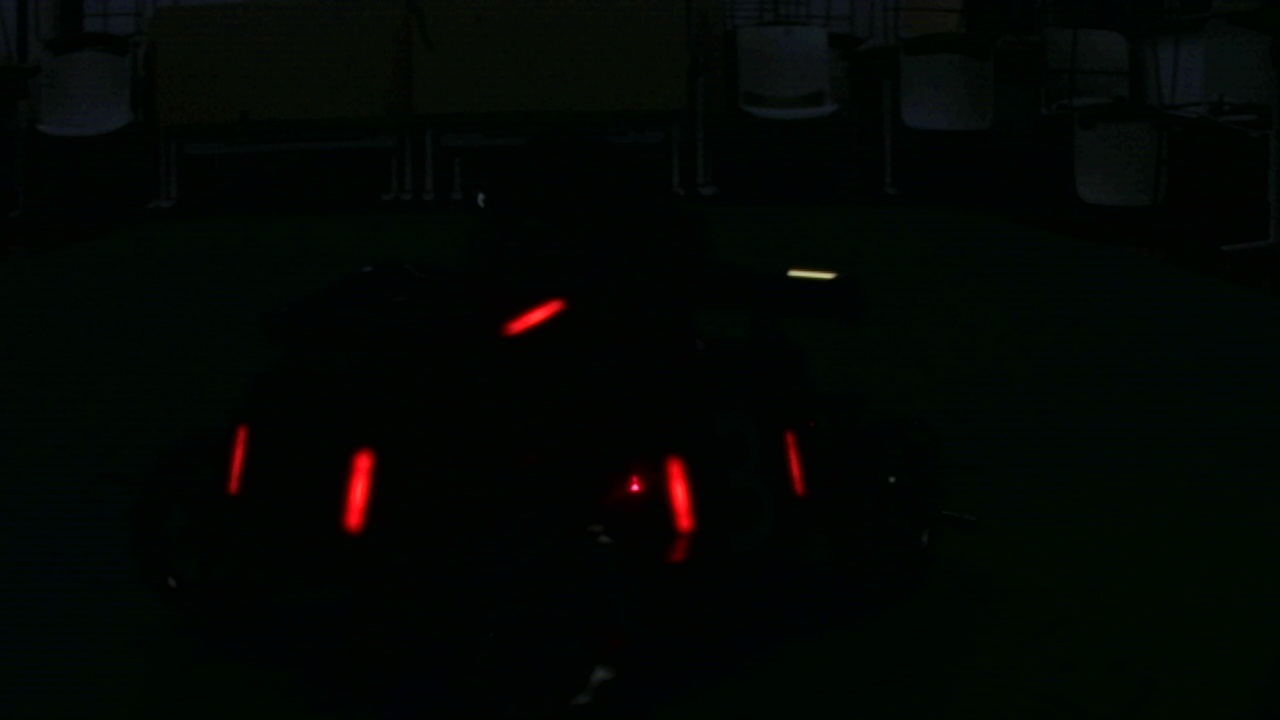lamp: (339, 433, 374, 534), (662, 450, 693, 532), (225, 422, 249, 498)
notpair1: (343, 438, 702, 540)
pair1: (218, 428, 379, 531)
